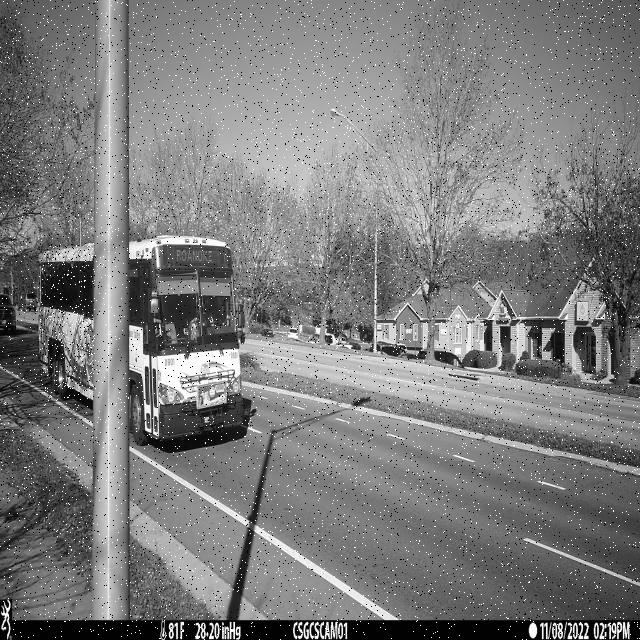Bus: (129, 236, 245, 446), (40, 243, 95, 401)
